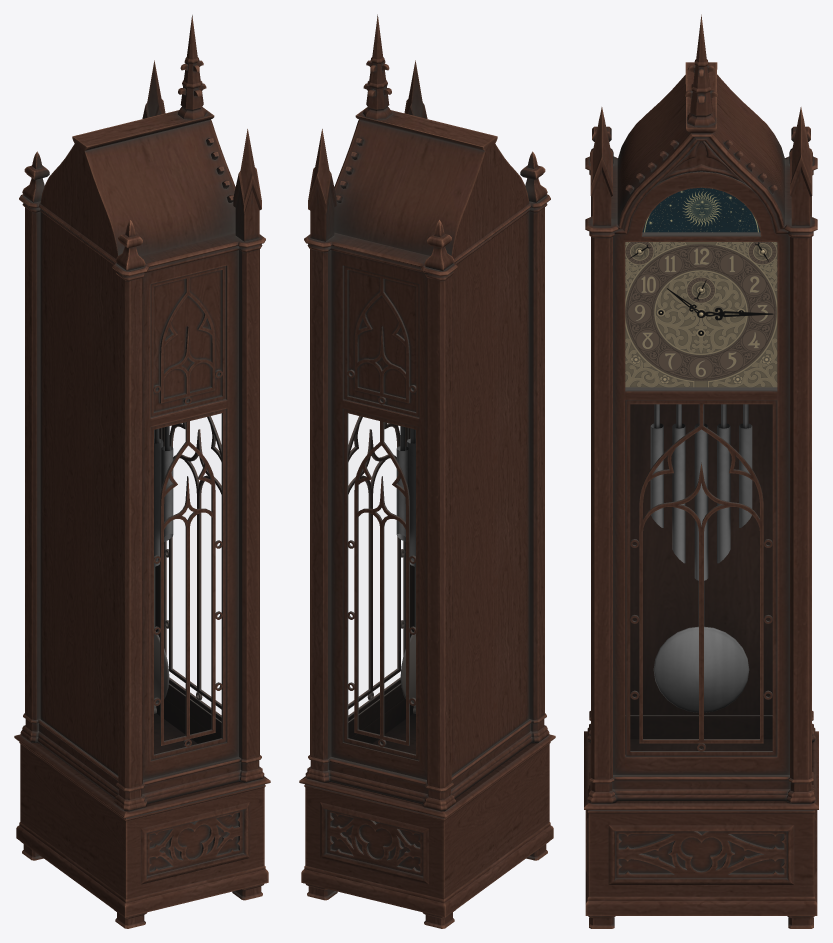
File: source.glb
3 views of the same model, side by side, from view 1: azimuth 30°, elevation 25°; view 2: azimuth 150°, elevation 25°; view 3: azimuth 270°, elevation 25° (orthographic). The views are drawn at different scales.
Parts seen in each view (by area): view 1: ClockCase; view 2: ClockCase; view 3: ClockCase, Clockface, MoonDial.
Part boxes in pixels (bbox=[...]): ClockCase: bbox=[14, 15, 270, 928]; ClockCase: bbox=[299, 14, 555, 928]; ClockCase: bbox=[584, 14, 818, 928]; Clockface: bbox=[625, 242, 777, 387]; MoonDial: bbox=[642, 187, 760, 232].
Bounding box in the file's own units: 47.48 × 263 × 61.93.
Materials: 4 (3 with a texture image).
